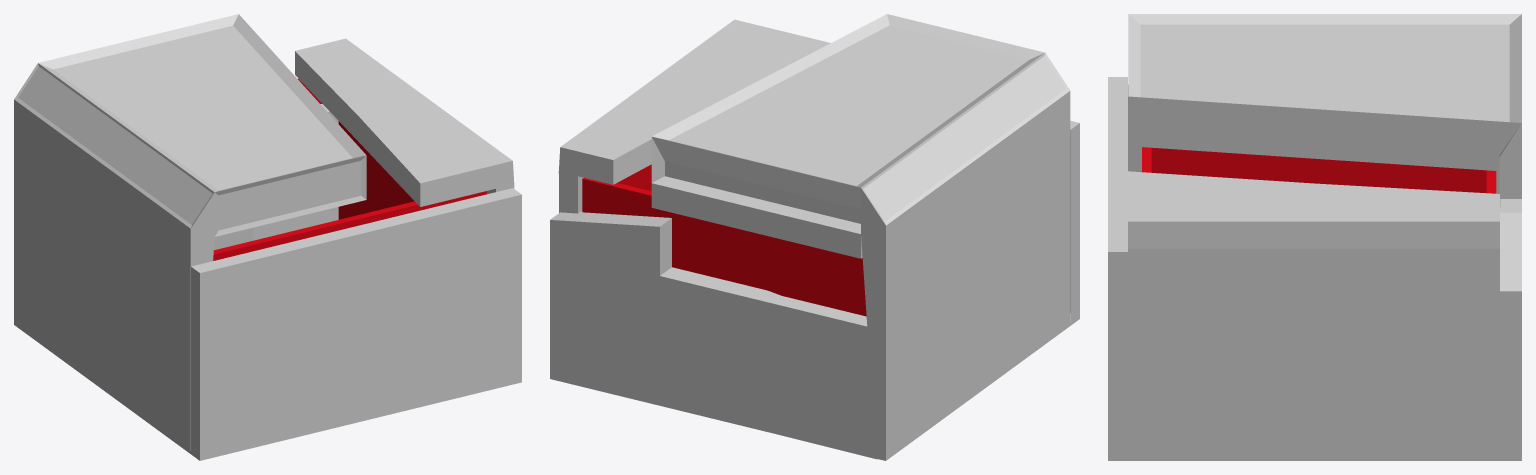
File: Room.glb
3 renders of one model, left to right at view 1: azimuth 30°, elevation 25°; view 2: azimuth 150°, elevation 25°; view 3: azimuth 270°, elevation 25°, orthographic. The views are drawn at different scales.
Parts seen in each view (by area): view 1: Cube.001, _PROXY; view 2: Cube.001, _PROXY; view 3: Cube.001, _PROXY.
Boxes of the visible parts, box(x1,y1,x2,y2) form: Cube.001: box(14, 14, 521, 460); _PROXY: box(213, 78, 486, 260); Cube.001: box(550, 14, 1079, 460); _PROXY: box(582, 164, 866, 316); Cube.001: box(1108, 14, 1521, 460); _PROXY: box(1142, 147, 1496, 193).
Size of the model in its own units: 20.08 by 15.24 by 20.
